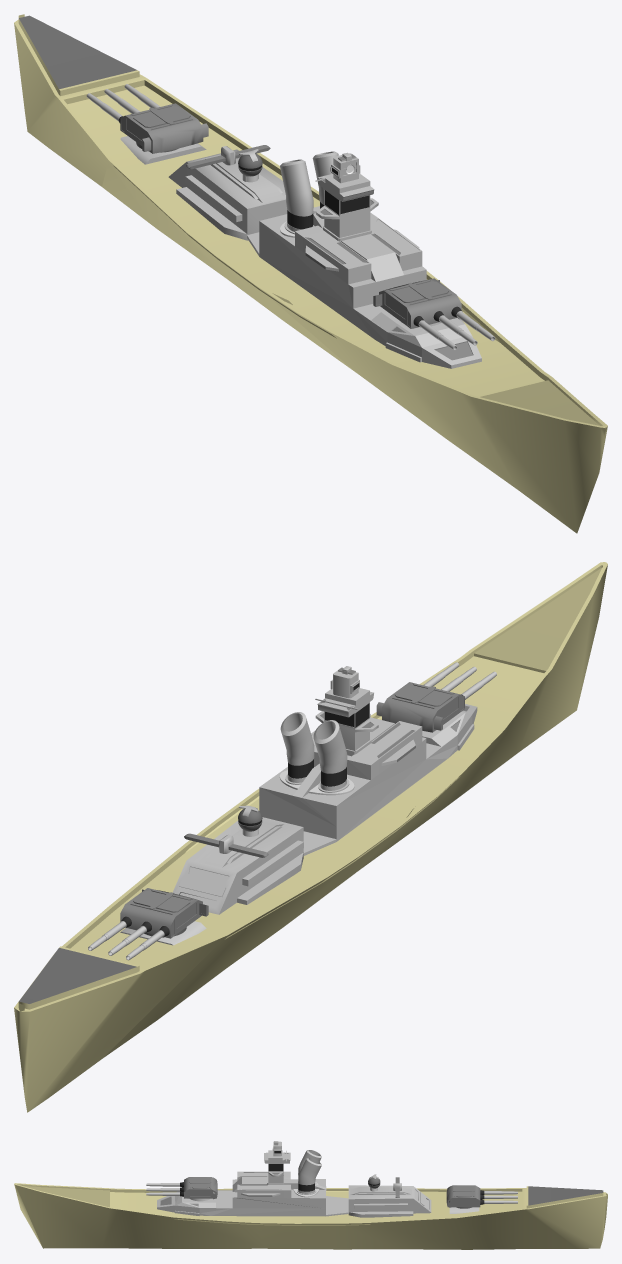
Rendered from bb1 extended bottom.fbx.
3 views of the same model, one above another, from view 1: azimuth 30°, elevation 25°; view 2: azimuth 150°, elevation 25°; view 3: azimuth 270°, elevation 25° (orthographic). The views are drawn at different scales.
Parts seen in each view (by area): view 1: Polygon, Cube, Cube_2, Cube_1, Base, Base_2, Oil_Tank_1, Cube_5; view 2: Polygon, Cube, Cube_2, Cube_1, Base_2, Base, Oil_Tank_1, Oil_Tank, Cube_4; view 3: Polygon, Cube, Cube_2, Cube_1, Base, Base_2, Oil_Tank, Oil_Tank_1, Cube_5.
Boxes of the visible parts, x1,y1,x2,y2 form: Polygon: [14, 14, 607, 533]; Cube: [247, 206, 481, 368]; Cube_2: [168, 149, 287, 240]; Cube_1: [315, 152, 378, 241]; Base: [120, 103, 208, 153]; Base_2: [373, 278, 461, 328]; Oil_Tank_1: [280, 159, 314, 234]; Cube_5: [120, 136, 206, 164]; Polygon: [14, 562, 607, 1112]; Cube: [259, 704, 477, 856]; Cube_2: [172, 817, 303, 914]; Cube_1: [315, 666, 378, 756]; Base_2: [376, 682, 464, 732]; Base: [120, 888, 208, 938]; Oil_Tank_1: [313, 720, 349, 792]; Oil_Tank: [280, 712, 314, 784]; Cube_4: [184, 833, 268, 857]; Polygon: [14, 1183, 607, 1249]; Cube: [157, 1171, 348, 1216]; Cube_2: [348, 1185, 431, 1217]; Cube_1: [264, 1141, 290, 1184]; Base: [446, 1185, 480, 1207]; Base_2: [184, 1177, 217, 1199]; Oil_Tank: [297, 1158, 321, 1194]; Oil_Tank_1: [298, 1150, 321, 1183]; Cube_5: [449, 1207, 479, 1213].
Size of the model in its own units: 574 by 809 by 4015.
